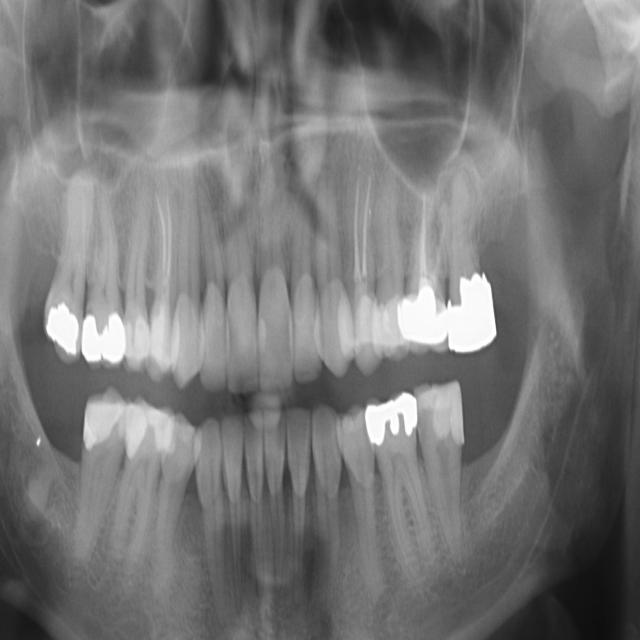dolgu: (124, 405, 173, 463), (75, 398, 127, 451), (43, 300, 80, 354)
kanal-tedavisi: (398, 187, 447, 304), (347, 174, 377, 310), (156, 199, 185, 321)
kaplama: (445, 279, 493, 352), (400, 296, 447, 349), (78, 312, 125, 363), (365, 401, 419, 441)
